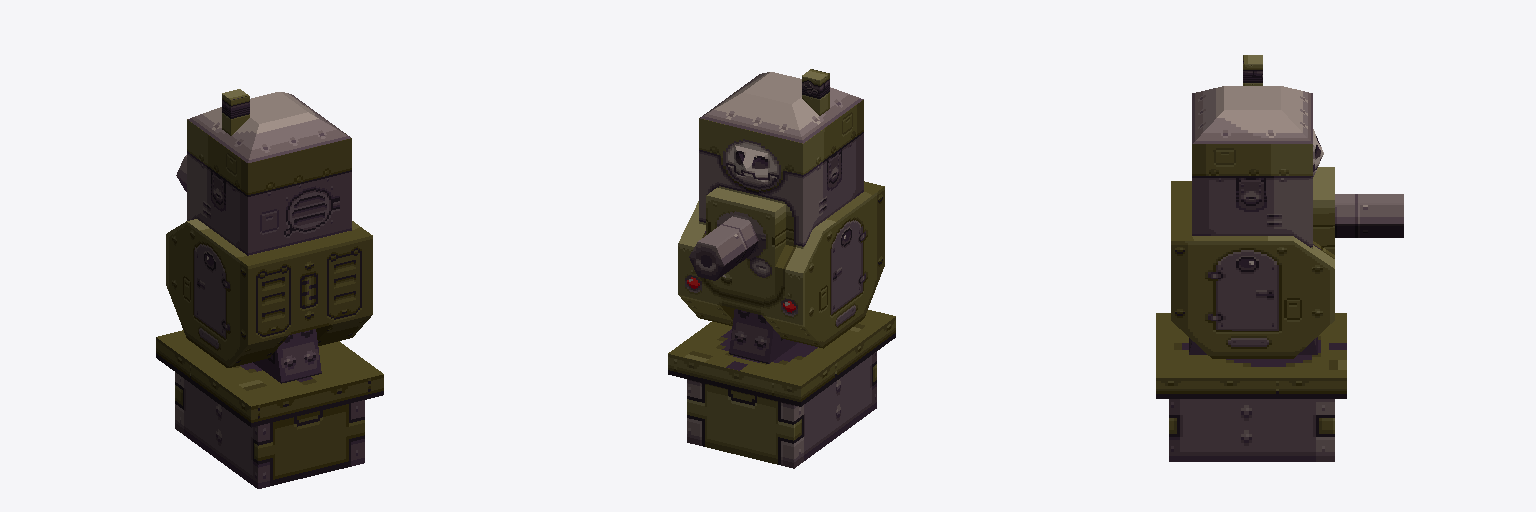
3 views of the same model, side by side, from view 1: azimuth 30°, elevation 25°; view 2: azimuth 150°, elevation 25°; view 3: azimuth 270°, elevation 25° (orthographic).
Visible parts, largest first — view 1: Mesh; view 2: Mesh; view 3: Mesh.
Part boxes in pixels (left/top/right/bottom): Mesh: left=156, top=89, right=383, bottom=488; Mesh: left=668, top=69, right=895, bottom=468; Mesh: left=1156, top=55, right=1403, bottom=461.
Bounding box in the file's own units: 70.5 × 182 × 113.
Materials: 1 (1 with a texture image).